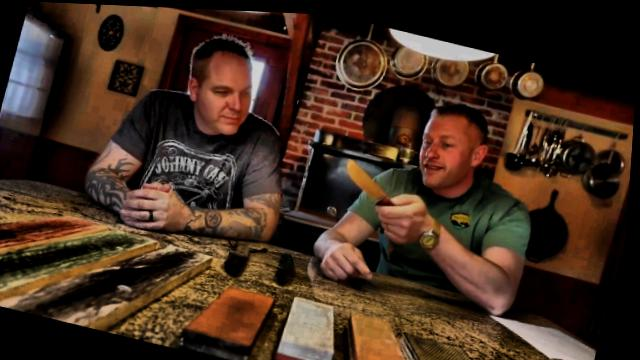knife: (329, 147, 434, 229)
